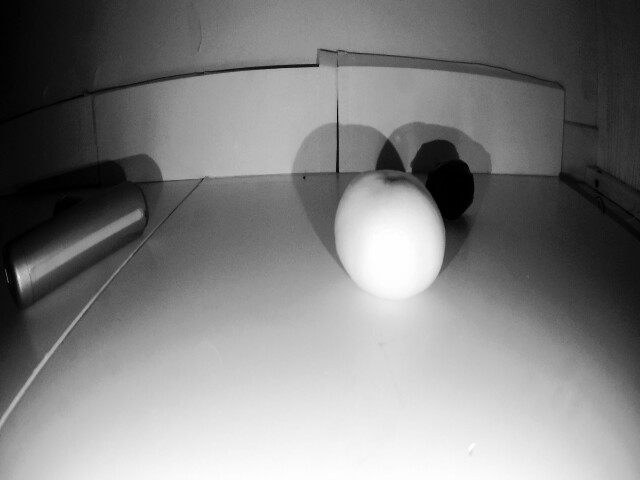silver: (420, 155, 481, 216)
